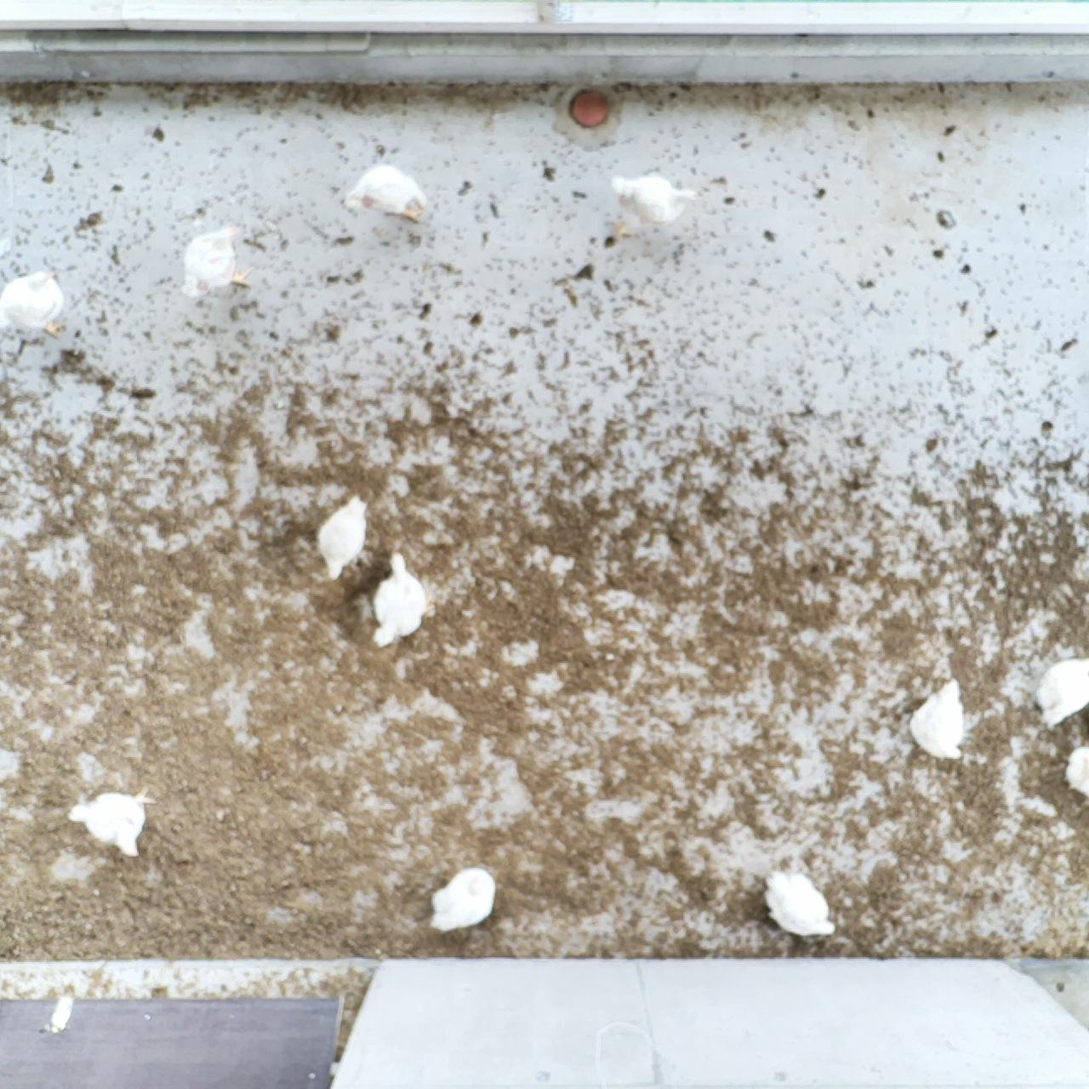chicken: (365, 546, 432, 654), (604, 173, 702, 246), (66, 783, 153, 858), (175, 222, 256, 302), (763, 866, 840, 942), (344, 160, 430, 228), (905, 675, 970, 762), (314, 494, 375, 585), (0, 263, 67, 343), (431, 865, 497, 936), (1031, 653, 1089, 725), (1063, 741, 1089, 795)
